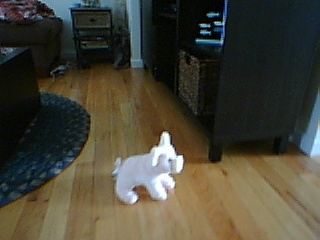piggy: (113, 130, 185, 207)
